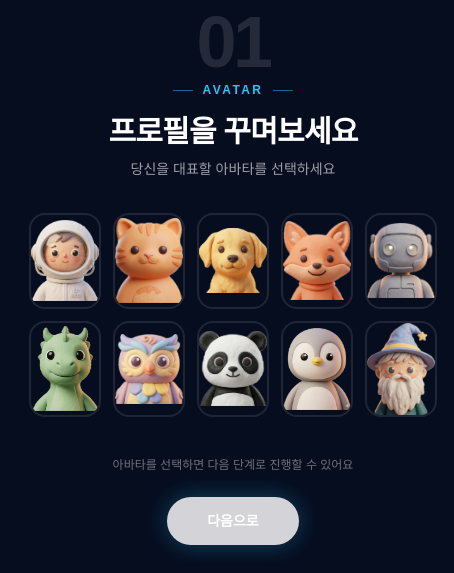
Test: AvatarStep › 아바타 선택 후 '다음으로' 버튼이 활성화된다
Step 1. Click the button named "우주인" → (65, 261), box [29,213,101,309]
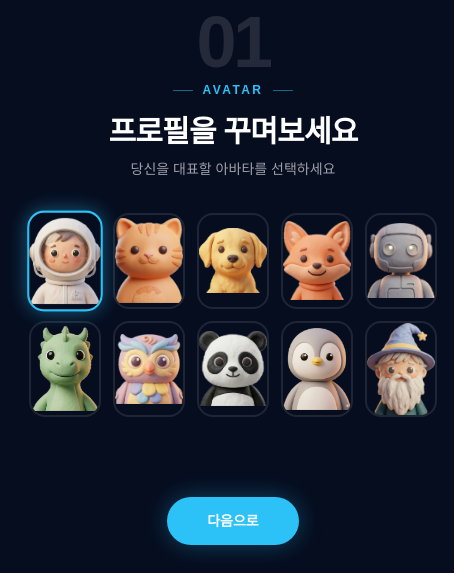
Check: the button "다음으로" is enabled, box [167,497,299,545]
